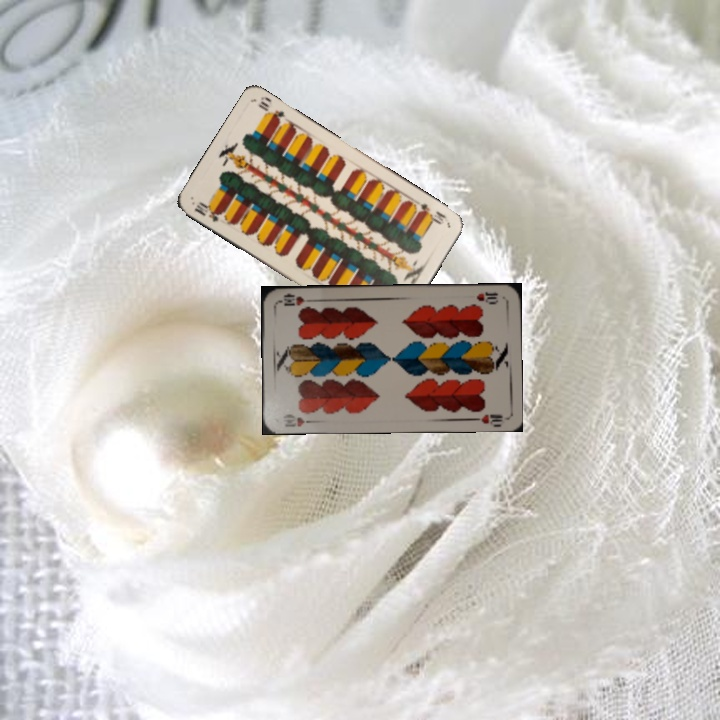E10: (411, 198, 451, 227), (190, 197, 224, 225)
H10: (279, 410, 318, 430), (473, 288, 501, 306)
